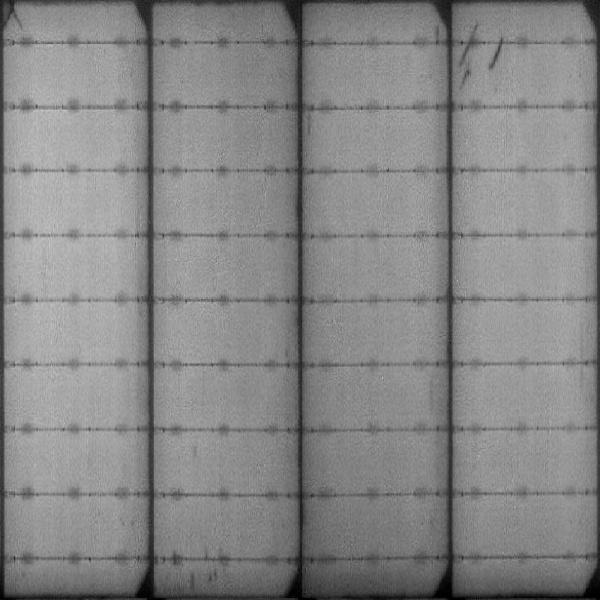broken: (1, 1, 22, 28)
scratch: (458, 20, 482, 92), (489, 35, 504, 74)
